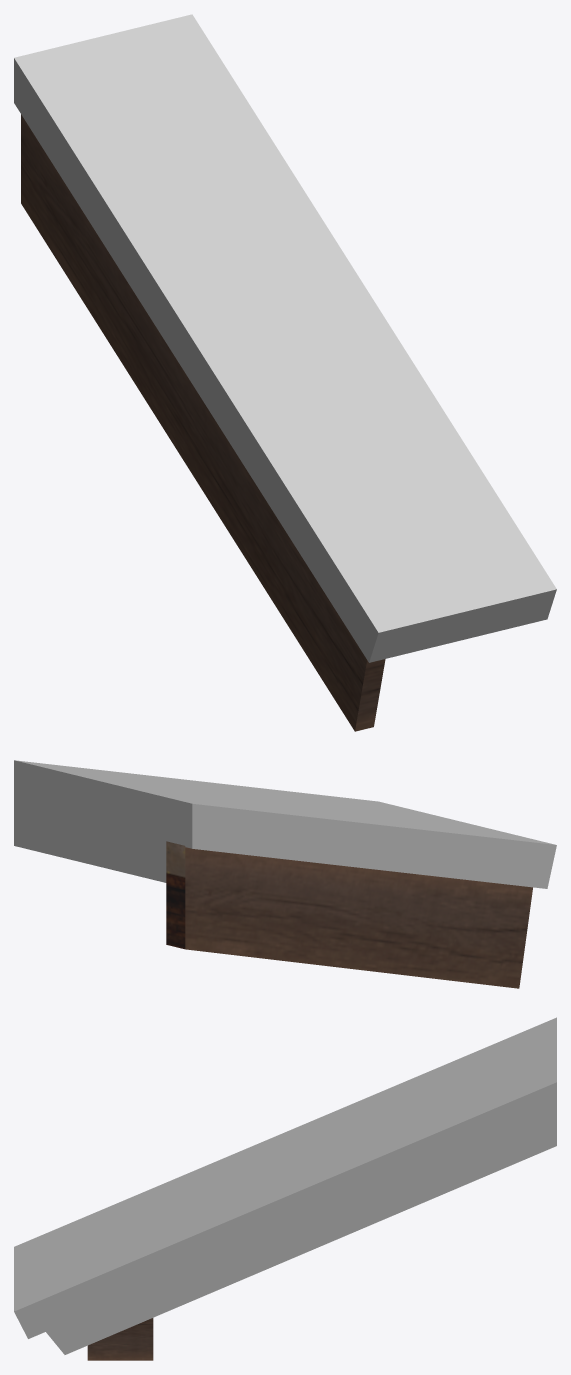
File: kawara__x0t_a1end_r.fbx
The picture shows the model from 3 angles, top to bottom: view 1: azimuth 30°, elevation 25°; view 2: azimuth 150°, elevation 25°; view 3: azimuth 270°, elevation 25°; orthographic projection. The views are drawn at different scales.
Parts seen in each view (by area): view 1: kawara__x0t_a1end_r; view 2: kawara__x0t_a1end_r; view 3: kawara__x0t_a1end_r.
Part boxes in pixels (x1,y1,x2,y2): kawara__x0t_a1end_r: [14, 14, 556, 731]; kawara__x0t_a1end_r: [14, 760, 556, 988]; kawara__x0t_a1end_r: [14, 1017, 556, 1360].
Size of the model in its own units: 30.3 by 69.98 by 107.
